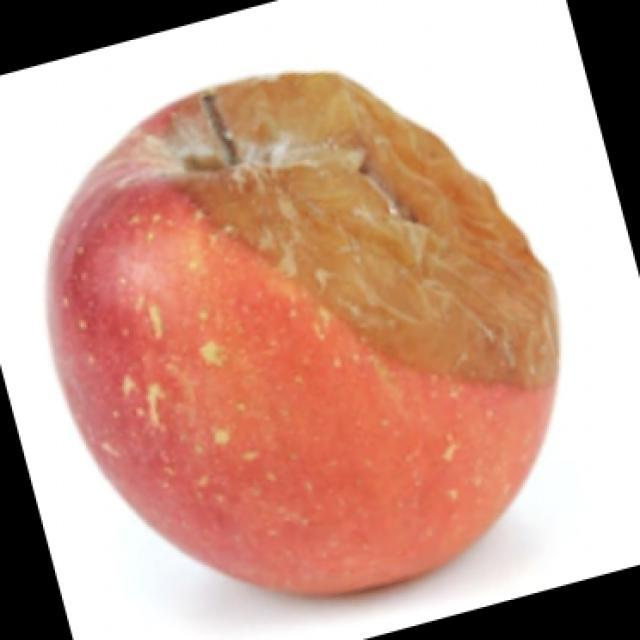Rotten: (50, 73, 550, 607)
